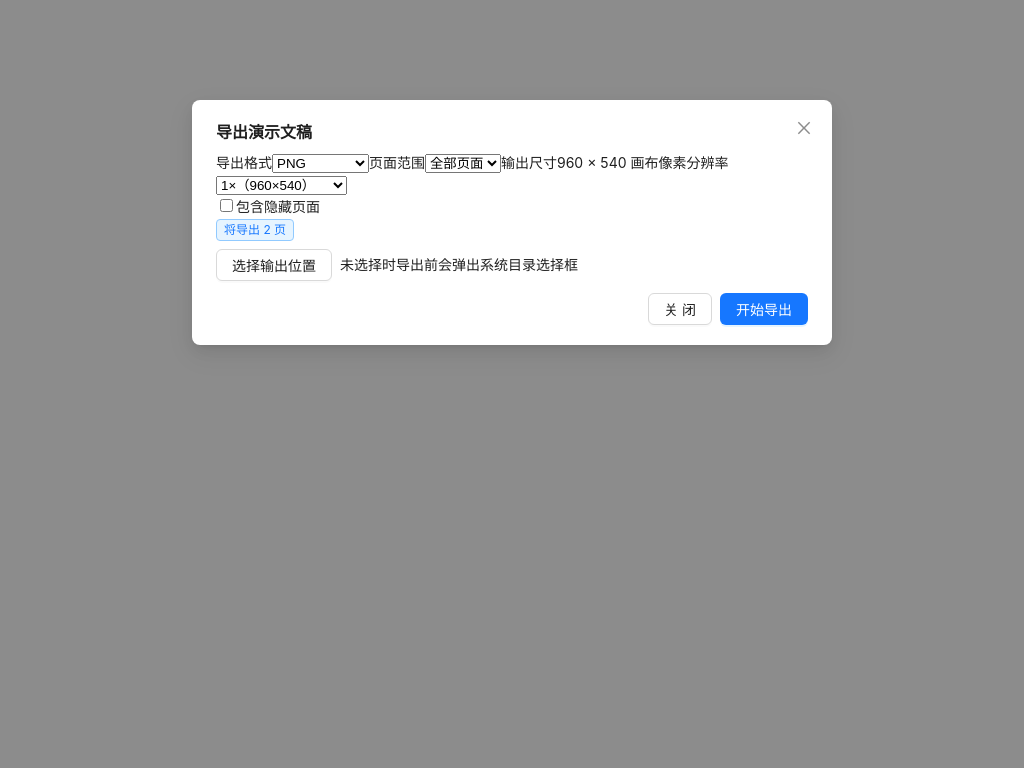
主进程取消时不报告成功
Step 1. Click the button "开始导出" → (764, 309), box x1=720 y1=293 x2=808 y2=325
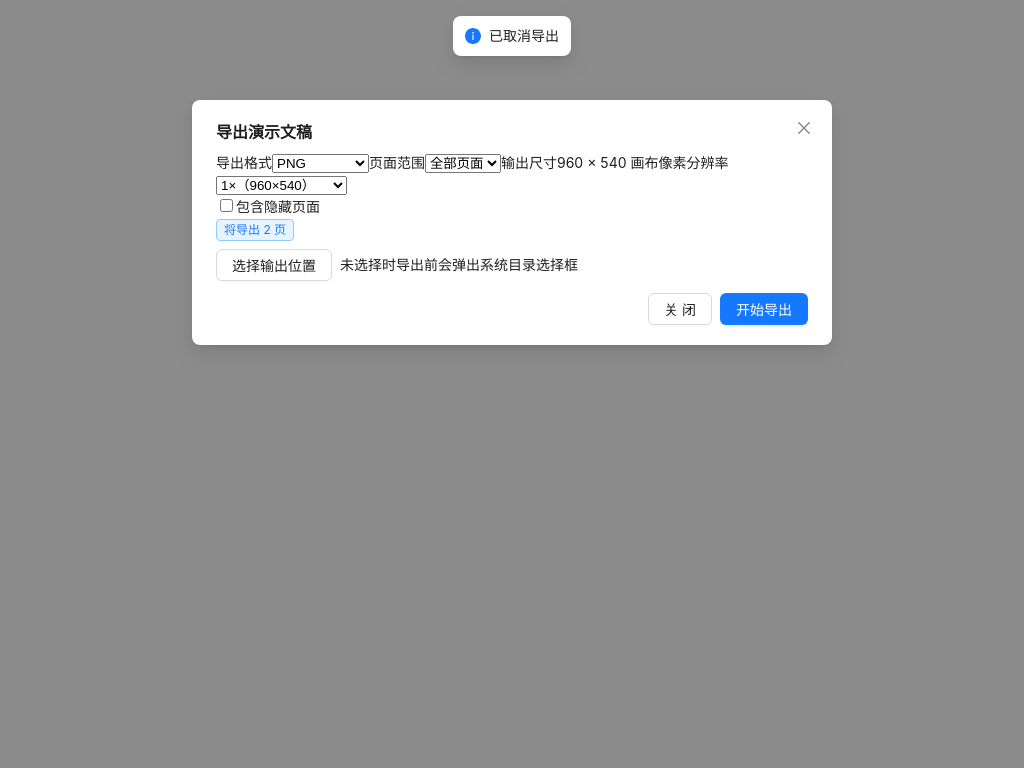
Result: the text "已取消导出" is shown at x1=489 y1=25 x2=559 y2=47
